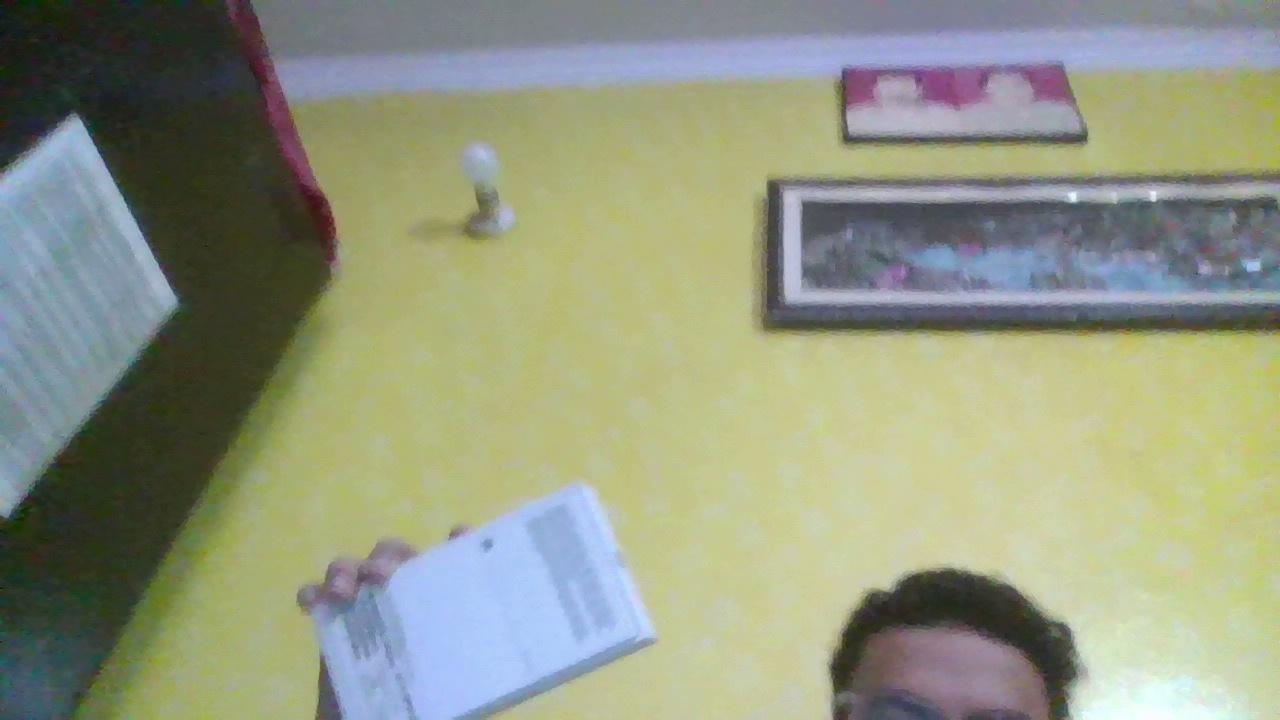Phone: (287, 504, 664, 720)
